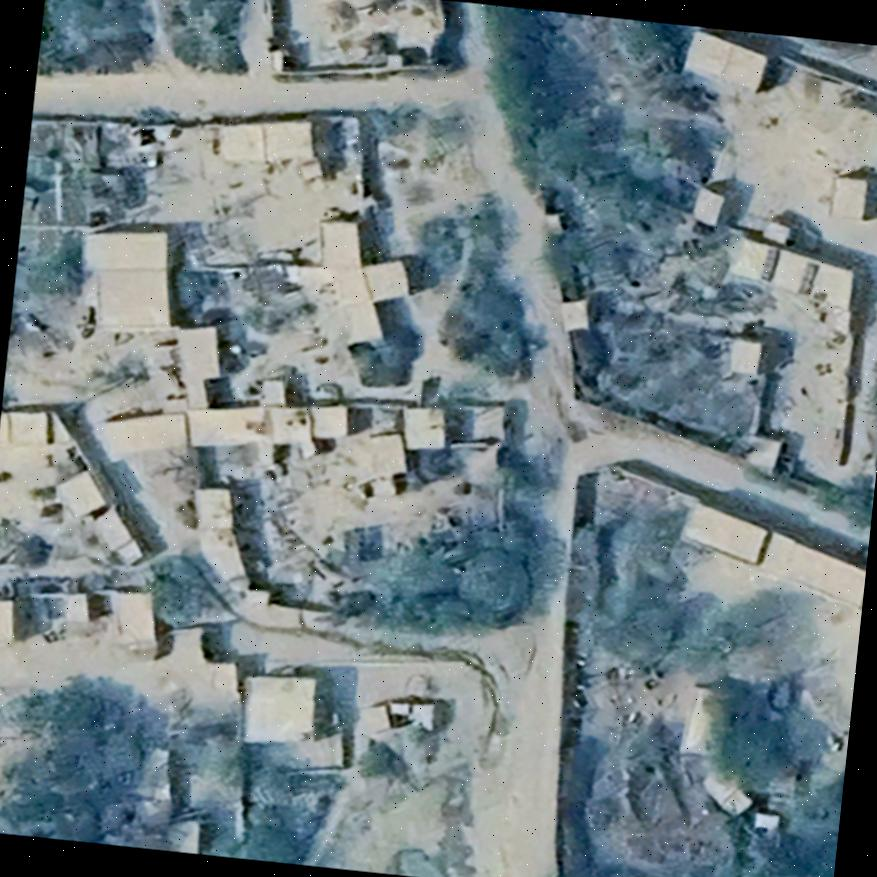Solarpanel: (795, 260, 820, 295), (758, 244, 779, 281)
